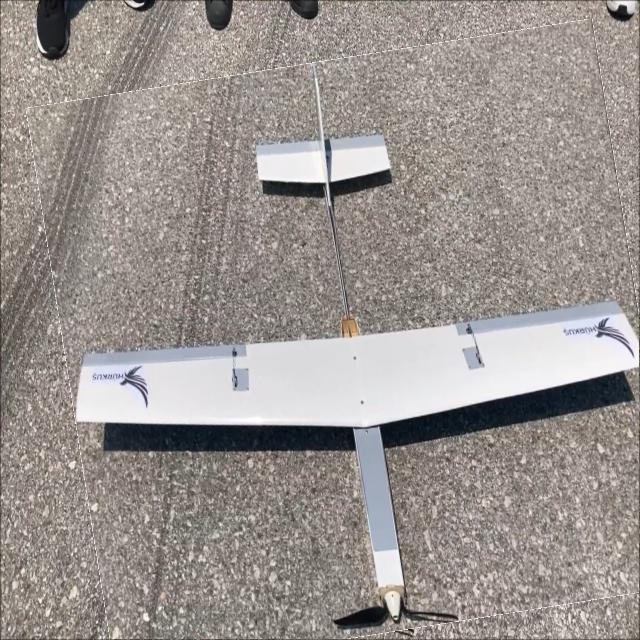UAV: (78, 138, 607, 590)
